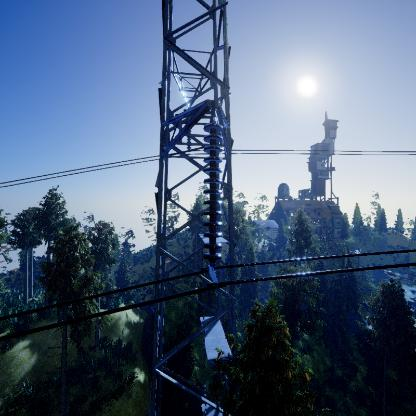insulator: (201, 121, 226, 269)
